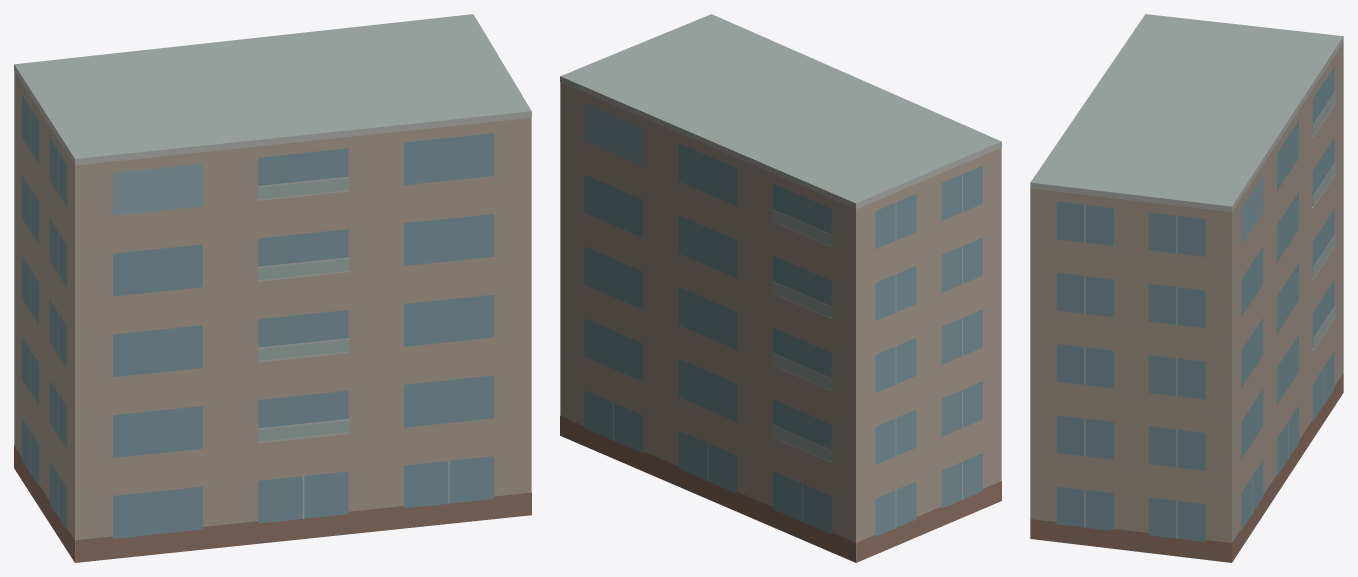
The model's file is survey-upis-32875279.glb.
3 views of the same model, side by side, from view 1: azimuth 30°, elevation 25°; view 2: azimuth 150°, elevation 25°; view 3: azimuth 270°, elevation 25° (orthographic). The views are drawn at different scales.
Parts seen in each view (by area): view 1: survey-upis-32875279.tmp; view 2: survey-upis-32875279.tmp; view 3: survey-upis-32875279.tmp.
Part boxes in pixels (x1,y1,x2,y2): survey-upis-32875279.tmp: [14, 14, 531, 562]; survey-upis-32875279.tmp: [560, 14, 1001, 562]; survey-upis-32875279.tmp: [1030, 14, 1343, 562].
Size of the model in its own units: 17.51 by 15.1 by 12.05.
